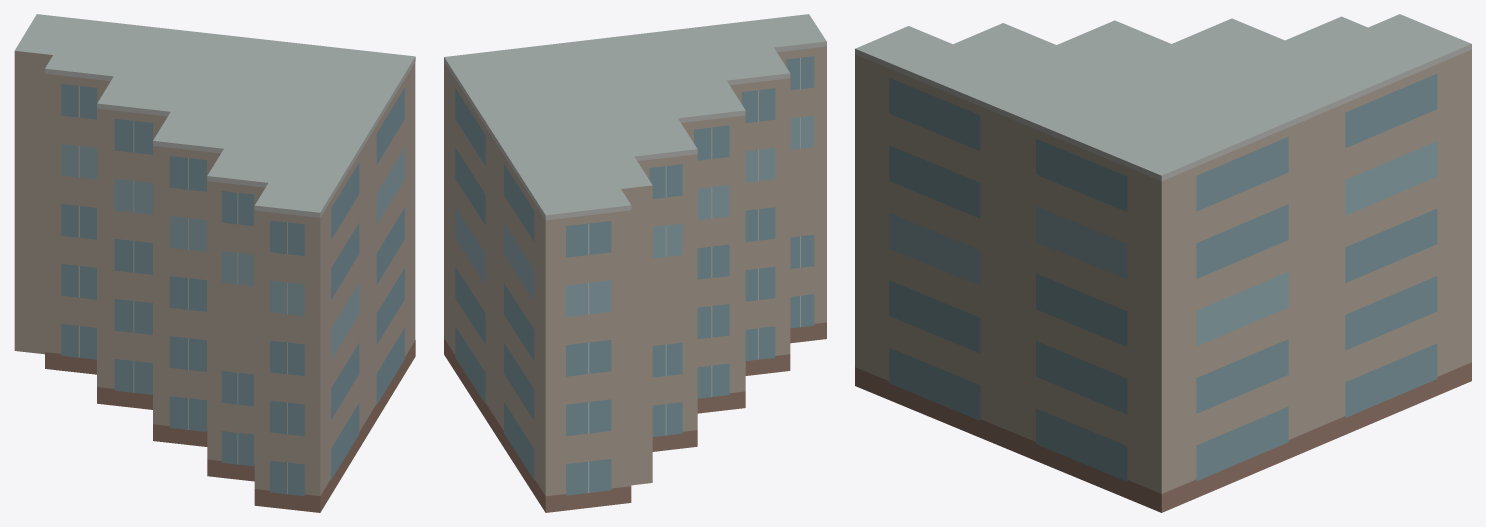
File: survey-upis-32987386.glb
3 views of the same model, side by side, from view 1: azimuth 30°, elevation 25°; view 2: azimuth 150°, elevation 25°; view 3: azimuth 270°, elevation 25° (orthographic). The views are drawn at different scales.
Parts seen in each view (by area): view 1: survey-upis-32987386.tmp; view 2: survey-upis-32987386.tmp; view 3: survey-upis-32987386.tmp.
Part boxes in pixels (x1,y1,x2,y2): survey-upis-32987386.tmp: (14,14,415,512); survey-upis-32987386.tmp: (444,14,826,512); survey-upis-32987386.tmp: (855,14,1471,512).
Size of the model in its own units: 14.9 by 14.48 by 24.01.
